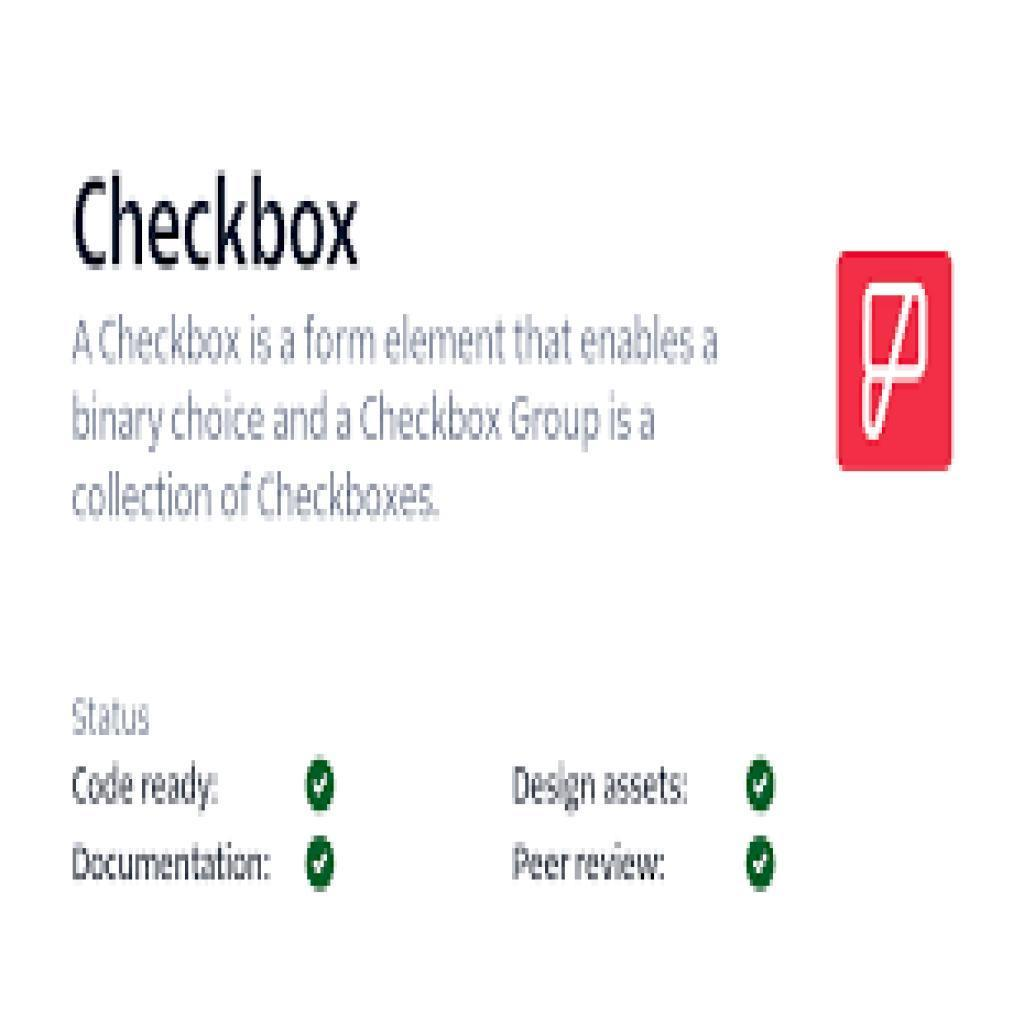checkbox: (304, 751, 337, 819), (747, 753, 778, 819), (304, 836, 338, 895), (746, 838, 777, 892)
label: (70, 841, 279, 893), (513, 761, 690, 811), (65, 765, 226, 816), (510, 839, 669, 888)
